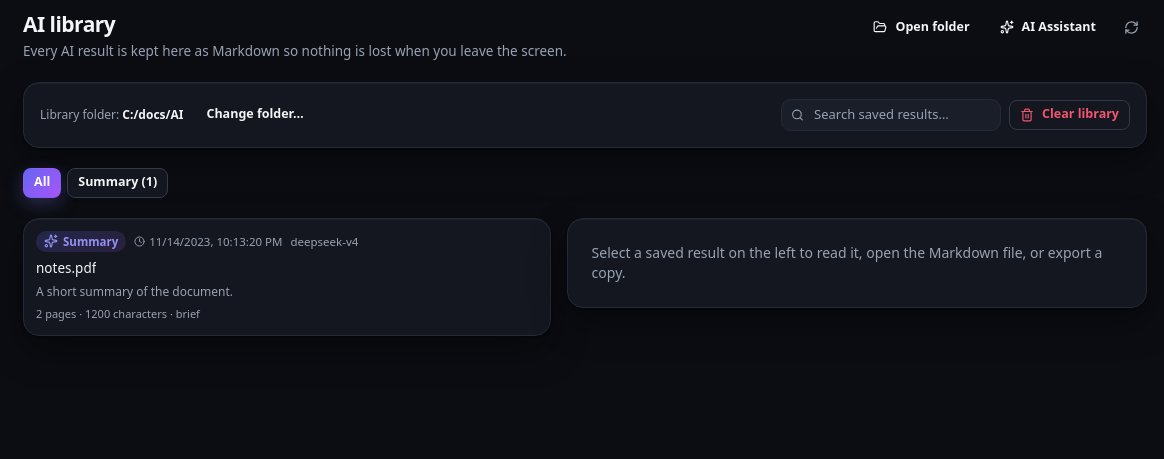
it: library and index screens › lists saved AI results and loads the selected text
The width and height of the screenshot is (1164, 459).
Expected: the text "A short summary of the document." is shown, [36,284,233,300]
Click the text "notes.pdf".
click(66, 268)  # box [36,258,96,278]
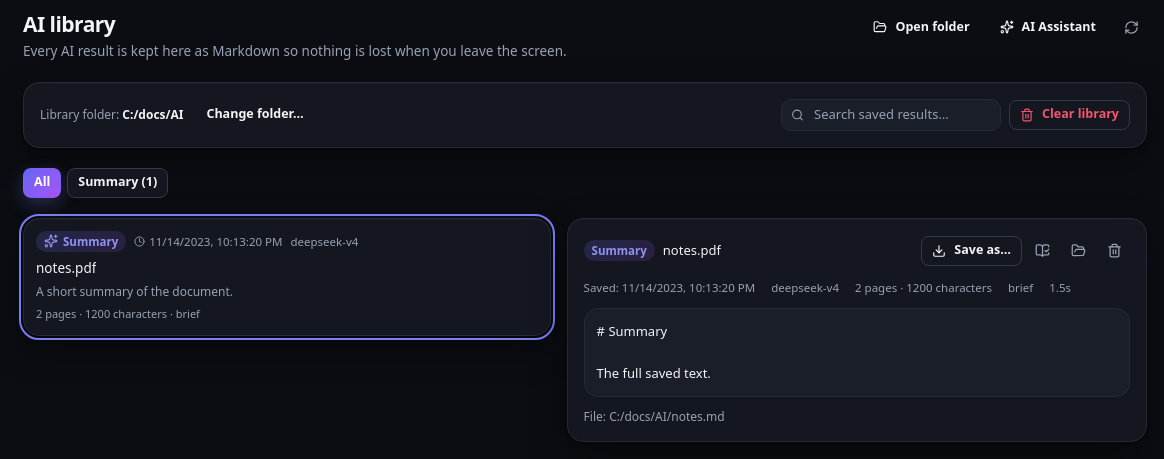
Result: the text "# Summary The full saved text." is shown at [584,308,1130,397]
